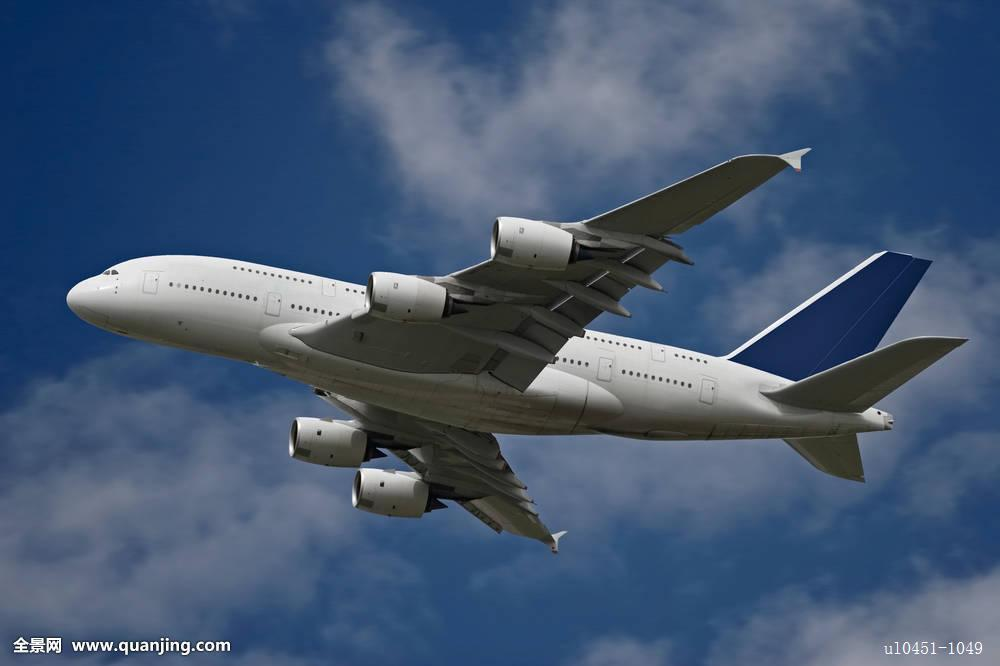airplane: (60, 145, 986, 556)
